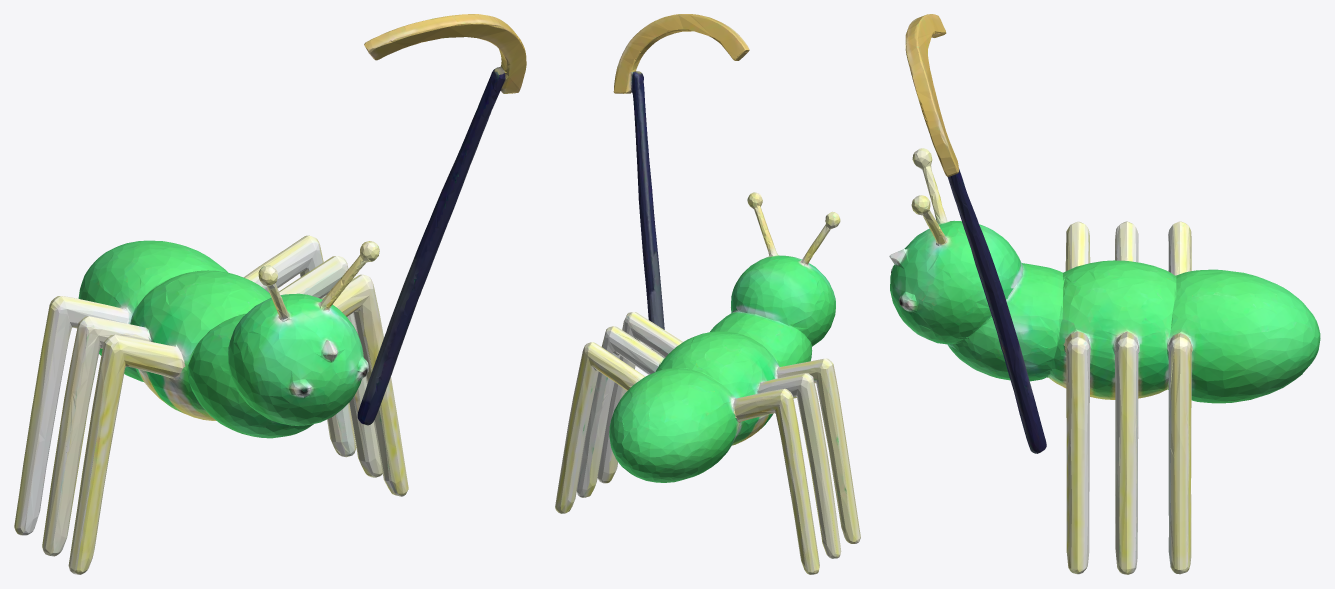
File: creature-050.lod.glb
3 views of the same model, side by side, from view 1: azimuth 30°, elevation 25°; view 2: azimuth 150°, elevation 25°; view 3: azimuth 270°, elevation 25° (orthographic). The views are drawn at different scales.
Visible parts, largest first — view 1: tmp3h55npuh.ply; view 2: tmp3h55npuh.ply; view 3: tmp3h55npuh.ply.
Part boxes in pixels (<box>): tmp3h55npuh.ply: <box>14,14,526,574</box>; tmp3h55npuh.ply: <box>555,14,860,574</box>; tmp3h55npuh.ply: <box>889,14,1320,574</box>.
Bounding box in the file's own units: 1.45 × 1.99 × 1.48.
Materials: 1 (1 with a texture image).
